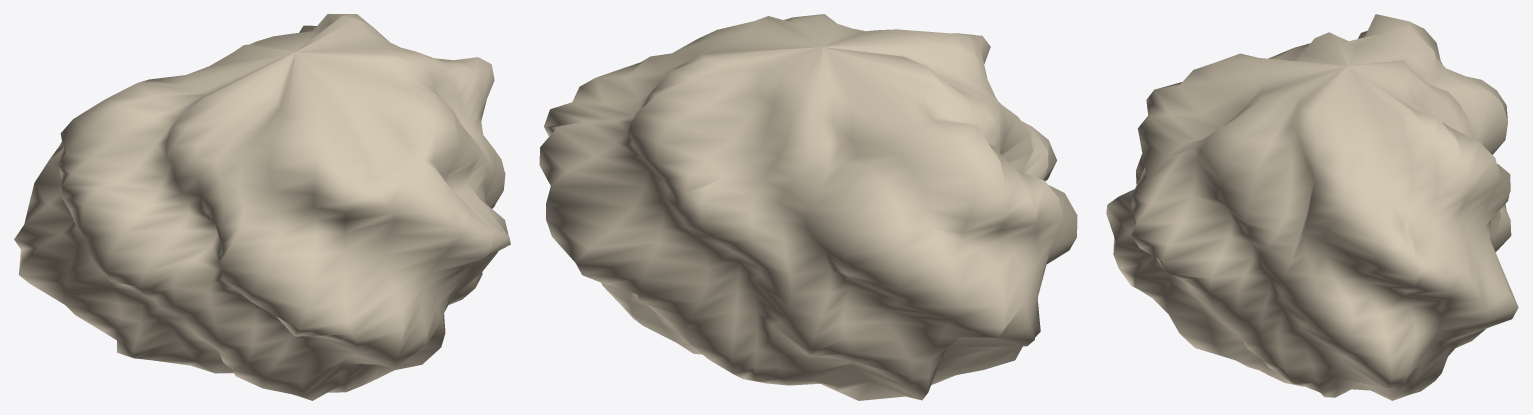
Rendered from rock0.glb.
3 renders of one model, left to right at view 1: azimuth 30°, elevation 25°; view 2: azimuth 150°, elevation 25°; view 3: azimuth 270°, elevation 25°, orthographic. The views are drawn at different scales.
Visible parts, largest first — view 1: rock0_rock; view 2: rock0_rock; view 3: rock0_rock.
Boxes of the visible parts, x1,y1,x2,y2 form: rock0_rock: [14, 14, 510, 400]; rock0_rock: [539, 14, 1077, 400]; rock0_rock: [1106, 14, 1518, 400].
Size of the model in its own units: 2.33 by 1.5 by 1.82.
